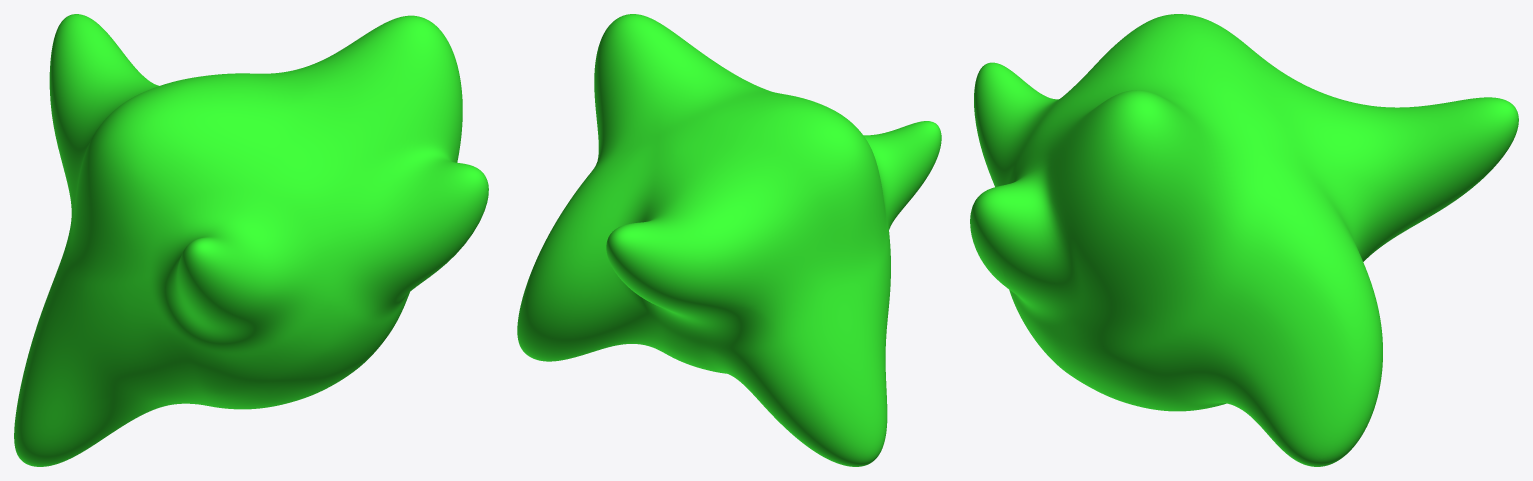
3 views of the same model, side by side, from view 1: azimuth 30°, elevation 25°; view 2: azimuth 150°, elevation 25°; view 3: azimuth 270°, elevation 25° (orthographic). The views are drawn at different scales.
Parts seen in each view (by area): view 1: #3; view 2: #3; view 3: #3.
Boxes of the visible parts, x1,y1,x2,y2 form: #3: [14, 14, 488, 466]; #3: [517, 14, 941, 466]; #3: [970, 14, 1518, 466].
Bounding box in the file's own units: 0.2441 × 0.2488 × 0.2881.
